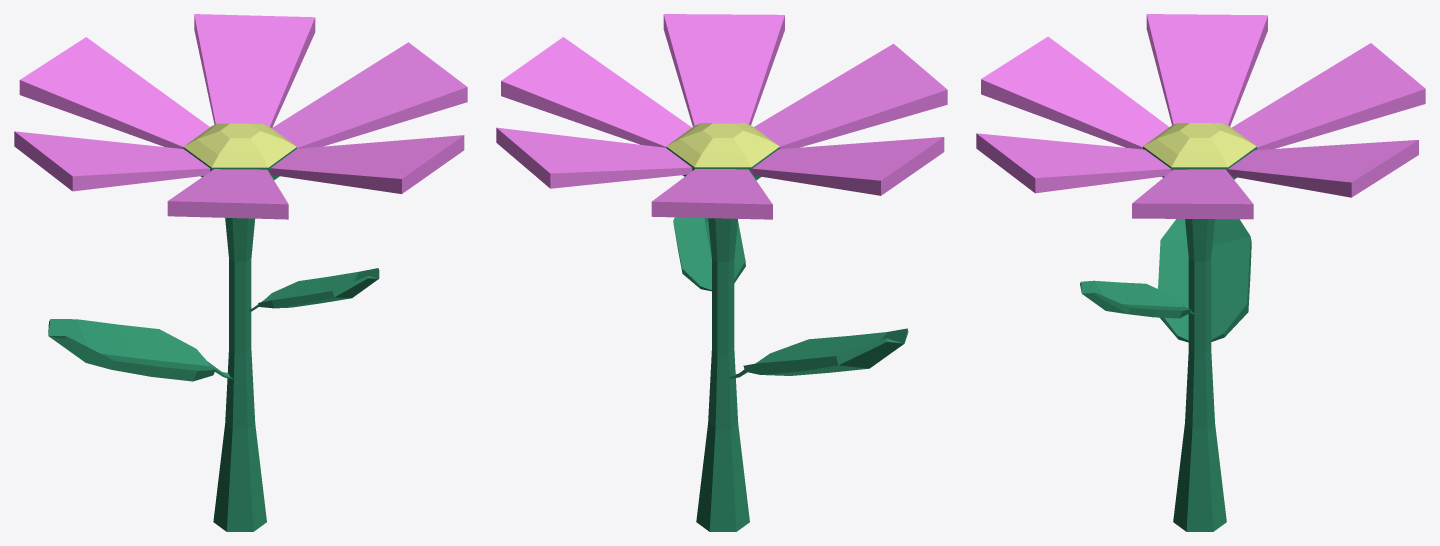
File: flower1.fbx
The picture shows the model from 3 angles, left to right: view 1: azimuth 30°, elevation 25°; view 2: azimuth 150°, elevation 25°; view 3: azimuth 270°, elevation 25°; orthographic projection.
Parts seen in each view (by area): view 1: Cube, Circle; view 2: Cube, Circle; view 3: Cube, Circle.
Boxes of the visible parts, <box> form: Cube: <box>14,14,467,219</box>; Circle: <box>48,123,379,531</box>; Cube: <box>496,14,947,219</box>; Circle: <box>666,123,908,531</box>; Cube: <box>976,14,1425,219</box>; Circle: <box>1080,123,1256,531</box>.
Bounding box in the file's own units: 991 × 1004 × 990.
